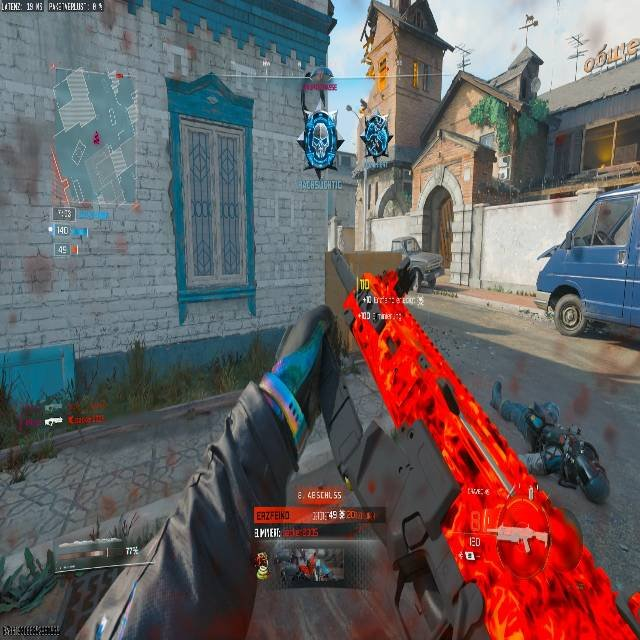player: (485, 375, 612, 506), (364, 111, 390, 162)
